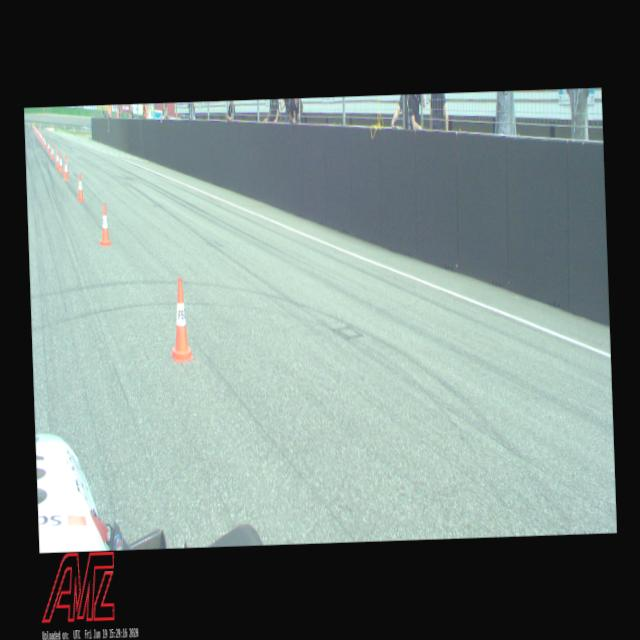orange_cone: (168, 278, 194, 362), (98, 202, 110, 245), (76, 172, 84, 200), (62, 158, 68, 181), (54, 150, 59, 167), (58, 154, 62, 172), (64, 154, 68, 172), (50, 145, 54, 159), (47, 140, 50, 153), (44, 137, 46, 148), (42, 134, 44, 144), (40, 133, 42, 141)
